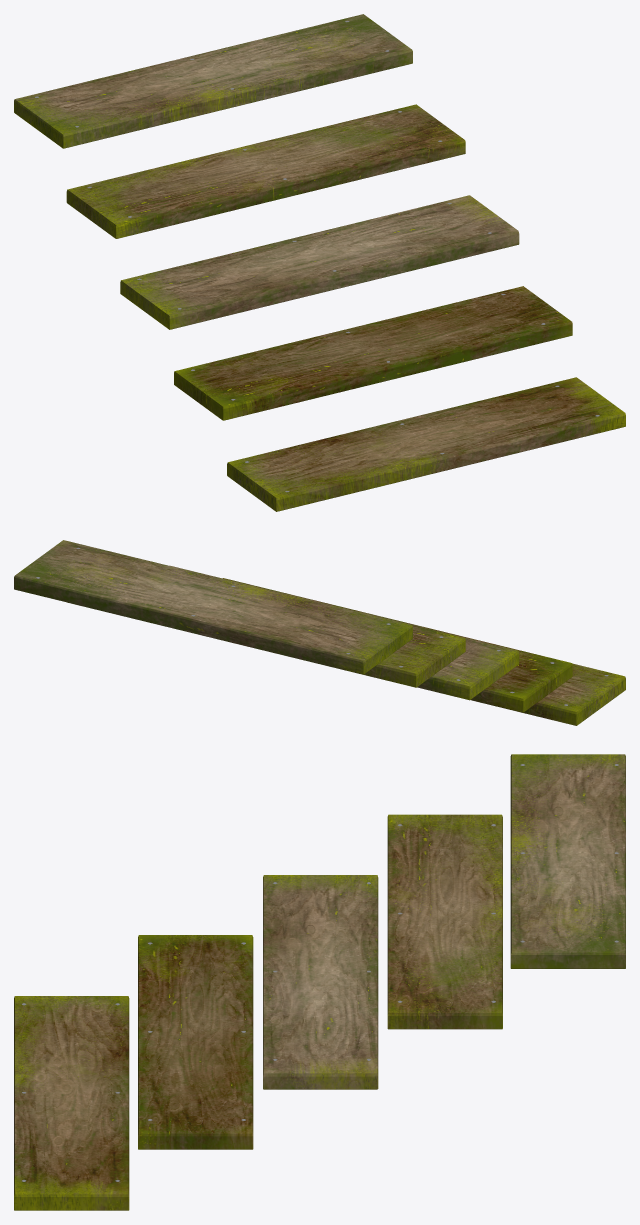
The model's file is PNW Pathway_Stairs_No Grip.glb.
3 views of the same model, one above another, from view 1: azimuth 30°, elevation 25°; view 2: azimuth 150°, elevation 25°; view 3: azimuth 270°, elevation 25° (orthographic). The views are drawn at different scales.
Visible parts, largest first — view 1: Plank Stairs_No Grip; view 2: Plank Stairs_No Grip; view 3: Plank Stairs_No Grip.
Part boxes in pixels (left/top/right/bottom): Plank Stairs_No Grip: left=14, top=14, right=625, bottom=511; Plank Stairs_No Grip: left=14, top=540, right=625, bottom=725; Plank Stairs_No Grip: left=14, top=754, right=625, bottom=1210.
Bounding box in the file's own units: 1.52 × 0.9171 × 1.97.
1 material, 1 textured.
